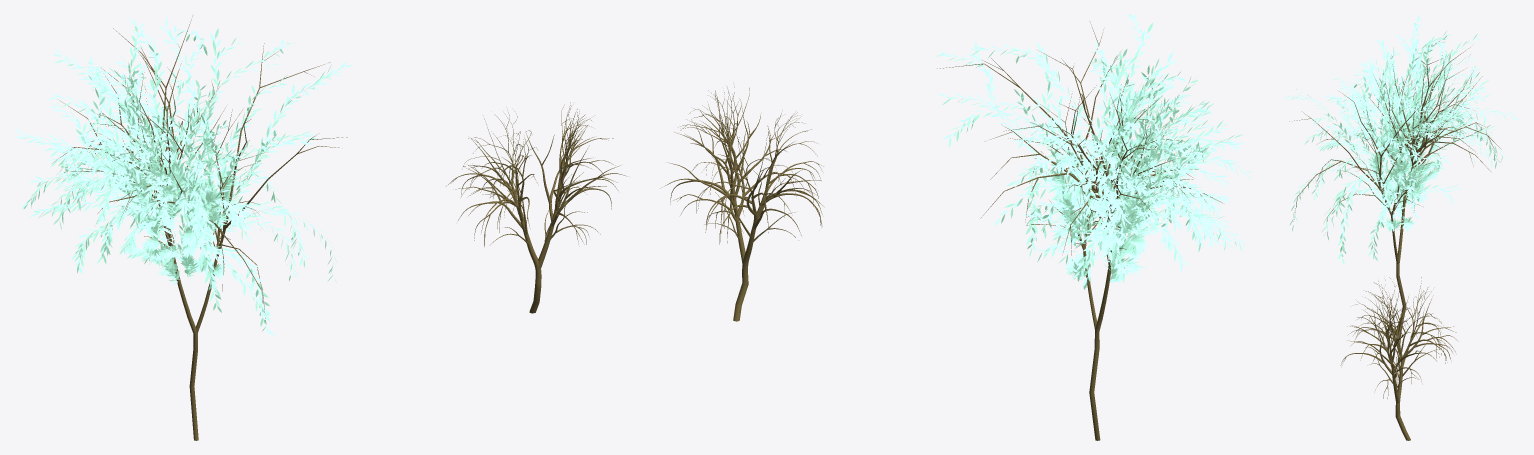
File: tree.fbx
3 views of the same model, side by side, from view 1: azimuth 30°, elevation 25°; view 2: azimuth 150°, elevation 25°; view 3: azimuth 270°, elevation 25° (orthographic). The views are drawn at different scales.
Parts seen in each view (by area): view 1: leaves, tree; view 2: leaves, tree; view 3: leaves, tree.
Part boxes in pixels (bbox=[...]): leaves: bbox=[15, 16, 353, 440]; tree: bbox=[446, 102, 626, 313]; leaves: bbox=[935, 14, 1253, 440]; tree: bbox=[660, 83, 823, 321]; leaves: bbox=[1284, 14, 1518, 343]; tree: bbox=[1340, 275, 1458, 440].
Size of the model in its own units: 1967 by 1355 by 963.
